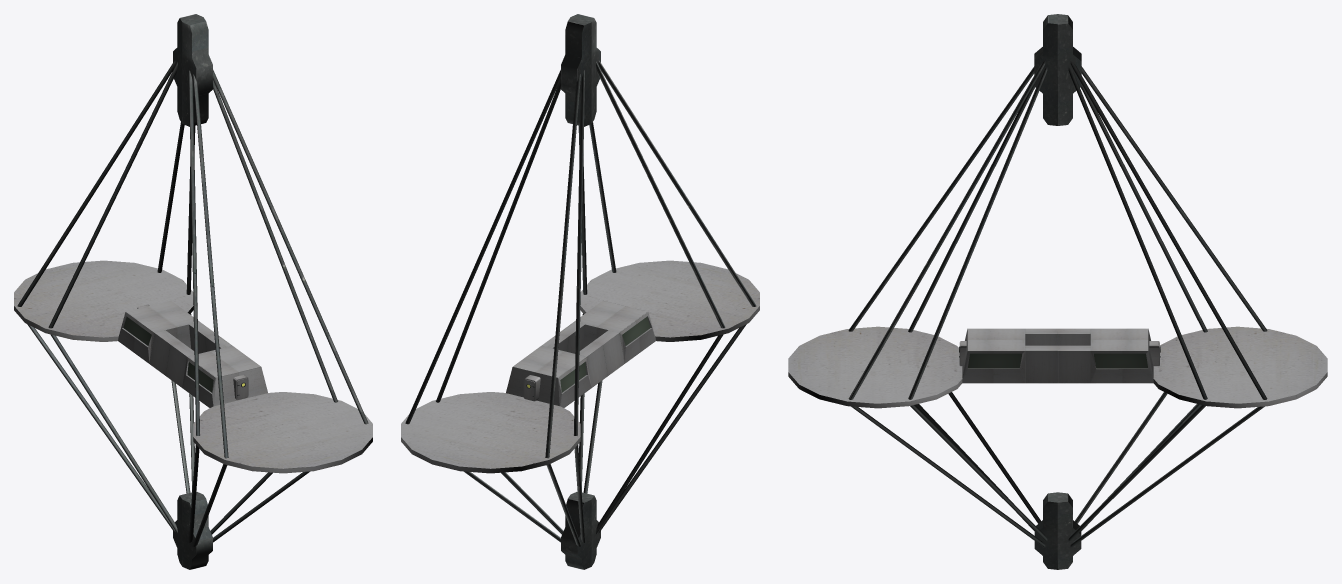
The model's file is elevator.FBX.
3 renders of one model, left to right at view 1: azimuth 30°, elevation 25°; view 2: azimuth 150°, elevation 25°; view 3: azimuth 270°, elevation 25°, orthographic.
Visible parts, largest first — view 1: Box03; view 2: Box03; view 3: Box03.
Part boxes in pixels (x1=…): Box03: x1=14, y1=14, x2=372, y2=569; Box03: x1=401, y1=14, x2=759, y2=569; Box03: x1=788, y1=14, x2=1327, y2=569.
Bounding box in the file's own units: 708 × 2334 × 2090.
Materials: 1 (1 with a texture image).
